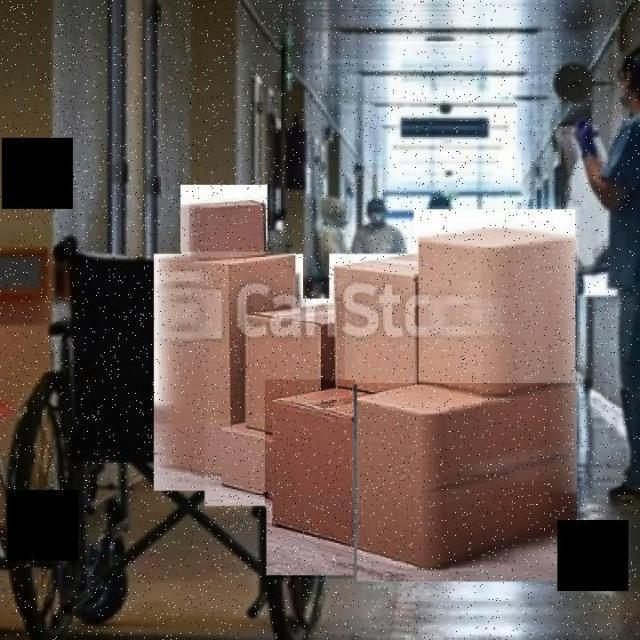box: (354, 383, 582, 585), (153, 252, 306, 494), (412, 206, 578, 396), (265, 380, 356, 578), (240, 297, 345, 455), (329, 252, 423, 388), (181, 184, 271, 262), (204, 420, 278, 510)
